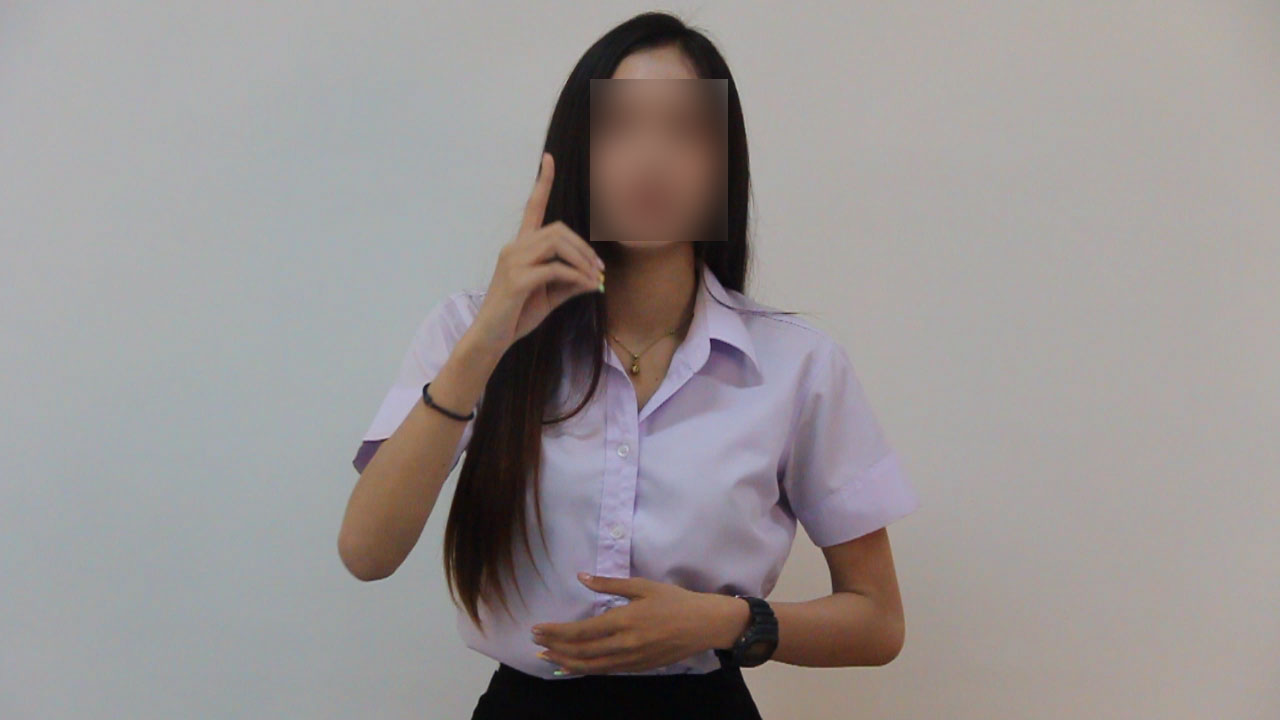dor: (460, 146, 611, 340)
